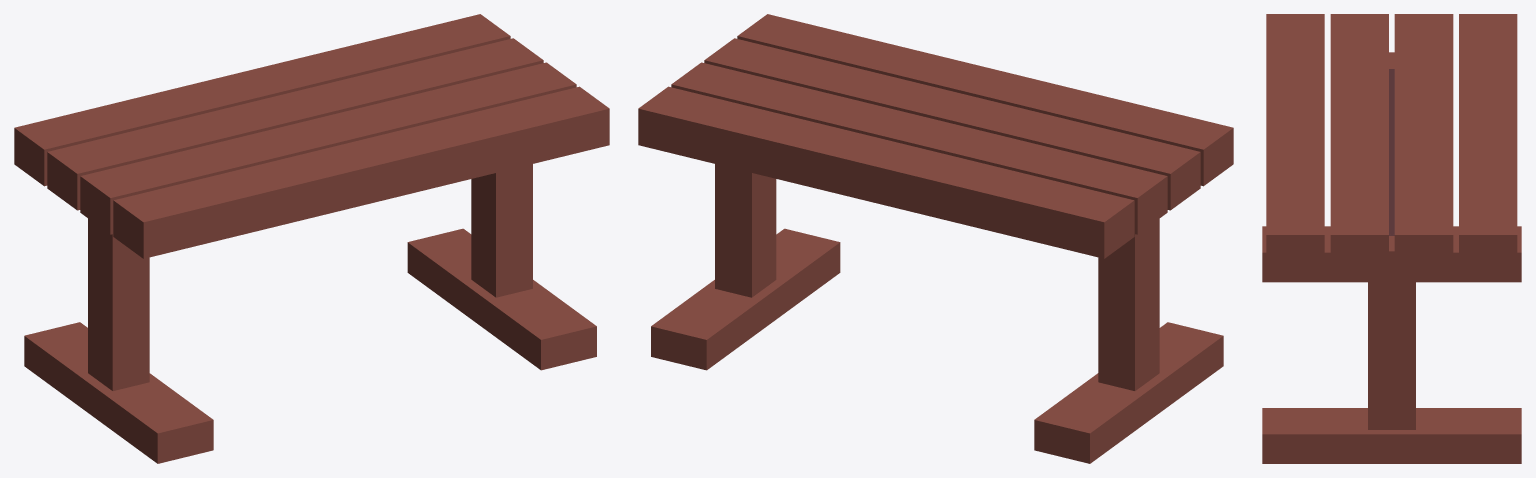
The model's file is table.fbx.
3 views of the same model, side by side, from view 1: azimuth 30°, elevation 25°; view 2: azimuth 150°, elevation 25°; view 3: azimuth 270°, elevation 25° (orthographic). The views are drawn at different scales.
Parts seen in each view (by area): view 1: Cube.058, Cube.059, Cube.061, Cube.060, Cube.065, Cube.066, Cube.064, Cube.063; view 2: Cube.061, Cube.058, Cube.060, Cube.059, Cube.066, Cube.065, Cube.064, Cube.063; view 3: Cube.060, Cube.058, Cube.059, Cube.061, Cube.065, Cube.063, Cube.066, Cube.062.
Boxes of the visible parts, x1,y1,x2,y2 form: Cube.058: (113, 86, 609, 258); Cube.059: (80, 62, 576, 234); Cube.061: (14, 14, 510, 186); Cube.060: (47, 38, 543, 210); Cube.065: (407, 228, 596, 370); Cube.066: (24, 322, 213, 463); Cube.064: (88, 218, 149, 390); Cube.063: (471, 164, 532, 297); Cube.061: (638, 86, 1134, 258); Cube.058: (737, 14, 1233, 186); Cube.060: (671, 62, 1167, 234); Cube.059: (704, 38, 1200, 210); Cube.066: (1034, 322, 1223, 463); Cube.065: (651, 228, 840, 370); Cube.064: (1098, 219, 1159, 390); Cube.063: (715, 164, 776, 297); Cube.060: (1394, 14, 1453, 270); Cube.058: (1266, 14, 1324, 270); Cube.059: (1330, 14, 1388, 270); Cube.061: (1459, 14, 1517, 270); Cube.065: (1262, 408, 1521, 463); Cube.063: (1368, 236, 1415, 429); Cube.066: (1262, 226, 1521, 282); Cube.062: (1389, 69, 1394, 235).
Size of the model in its own units: 200 by 99.62 by 99.27.
